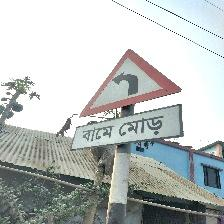Left-Turn: (74, 49, 185, 152)
